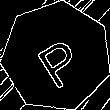P_NW: (27, 25, 85, 88)
